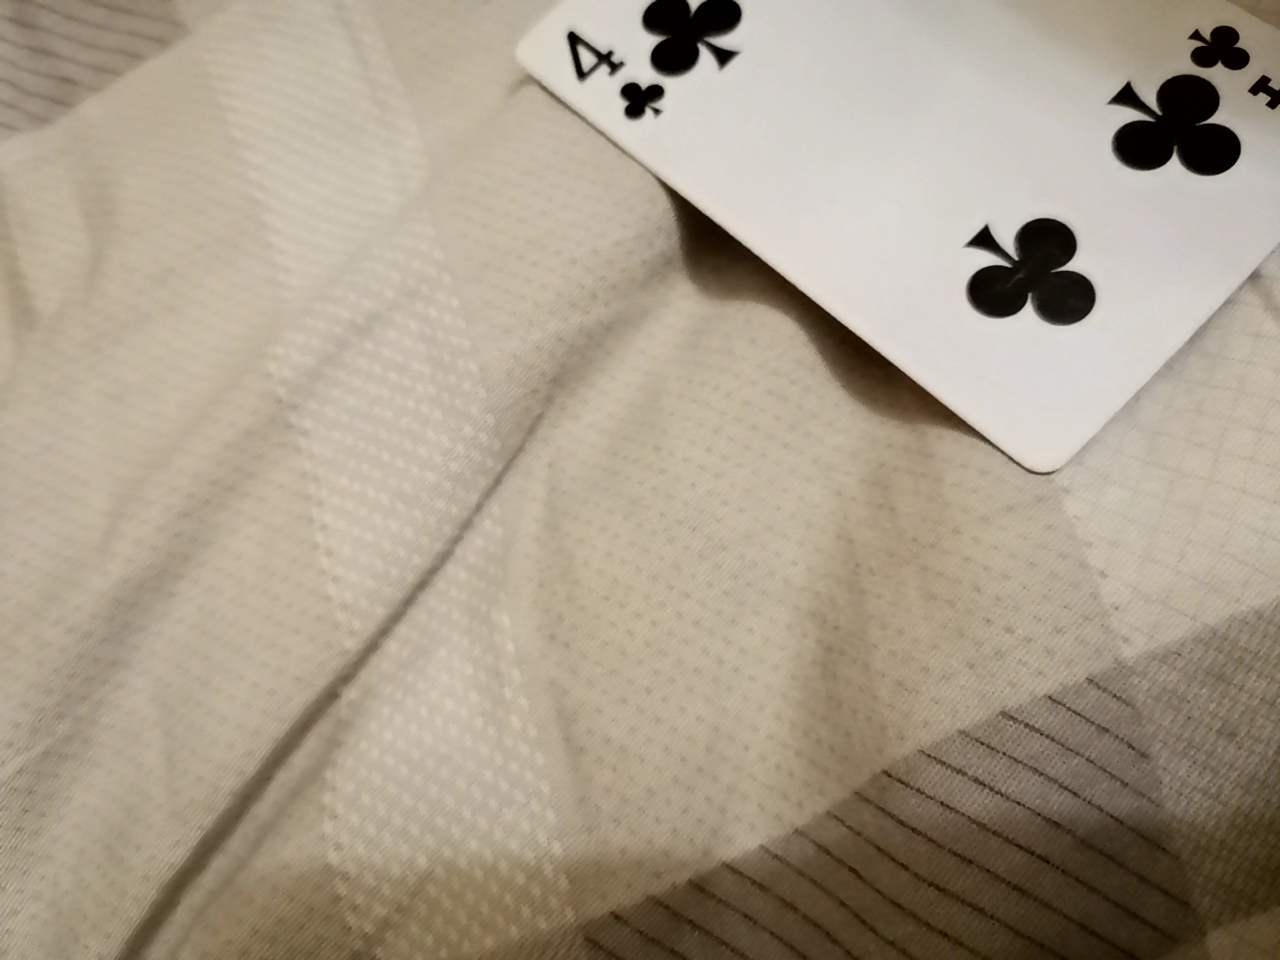mh 4: (478, 0, 1271, 469)
